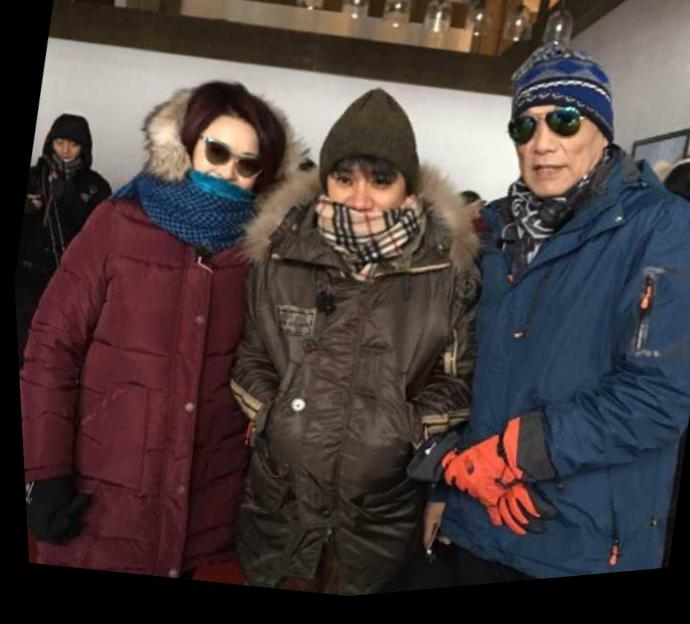NONE: (498, 97, 611, 214), (49, 135, 84, 172)
WRONG: (315, 160, 409, 254), (184, 131, 270, 221)
